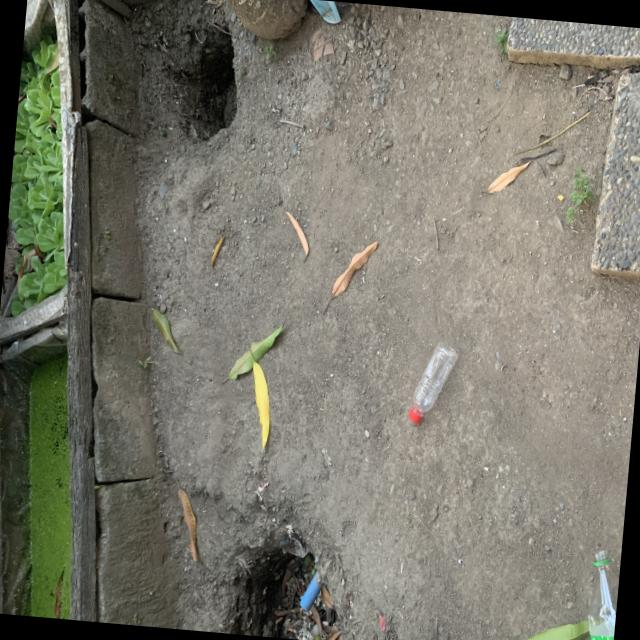Bottle: (408, 342, 457, 424)
